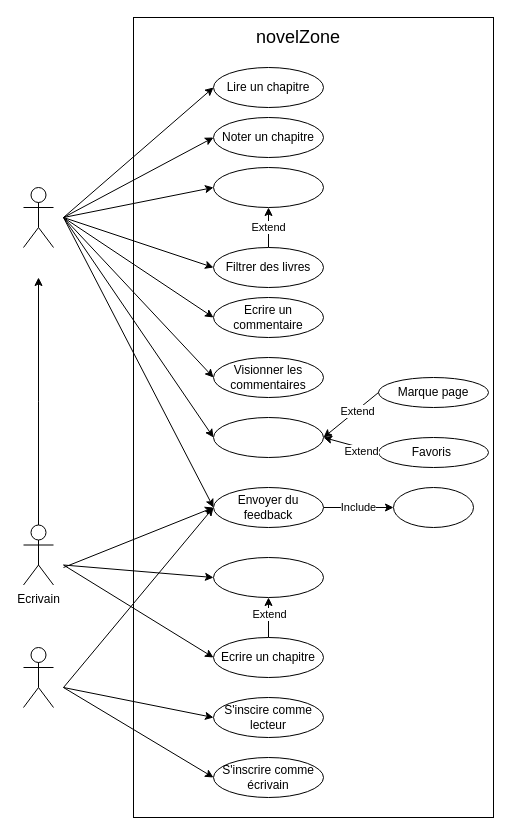
This 511x835 diagram has some shape labels left out. Each missing label, with the box of its shape:
Enregister un livre: (212, 556, 324, 598)
Lecteur: (22, 186, 54, 248)
Parcourir les livres: (212, 166, 324, 208)
Suivre mes livres et auteurs: (212, 416, 324, 458)
Tally: (392, 486, 474, 528)
Visiteur: (22, 646, 54, 708)
